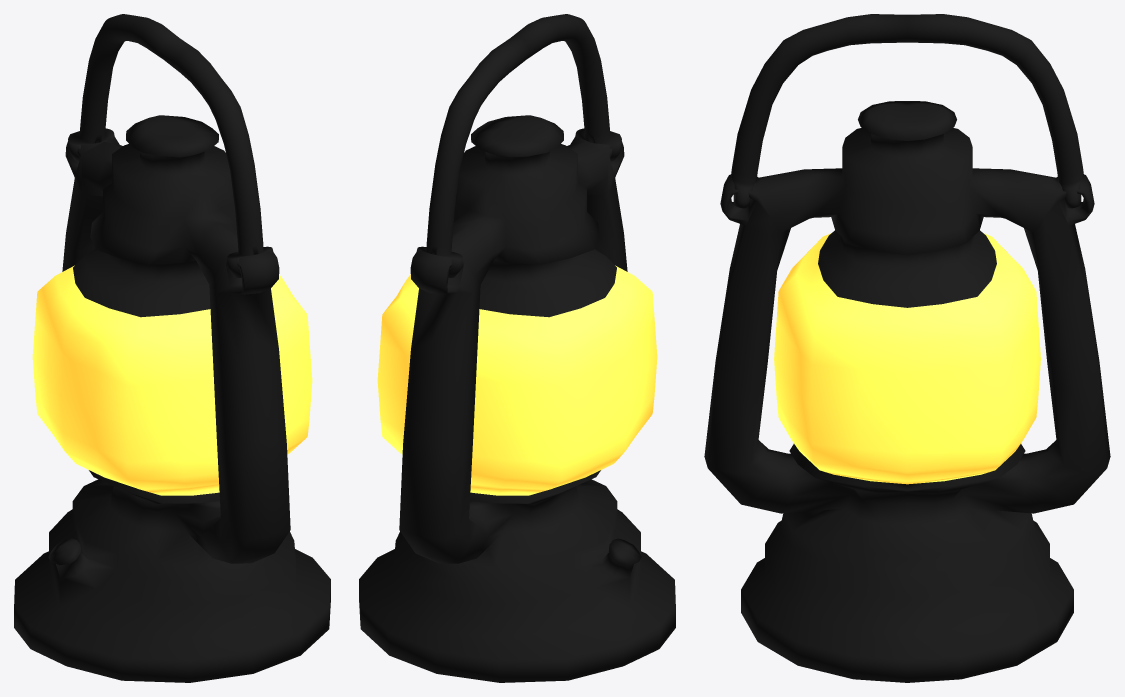
Rendered from lantern.glb.
3 renders of one model, left to right at view 1: azimuth 30°, elevation 25°; view 2: azimuth 150°, elevation 25°; view 3: azimuth 270°, elevation 25°, orthographic. The views are drawn at different scales.
Parts seen in each view (by area): view 1: Lantern, Handle; view 2: Lantern, Handle; view 3: Lantern, Handle.
Part boxes in pixels (x1,y1,x2,y2): Lantern: (14, 115, 330, 682); Handle: (68, 14, 273, 277); Lantern: (359, 115, 675, 682); Handle: (416, 14, 621, 277); Lantern: (704, 101, 1110, 682); Handle: (731, 14, 1083, 208).
Size of the model in its own units: 1.57 by 3.09 by 1.9.
